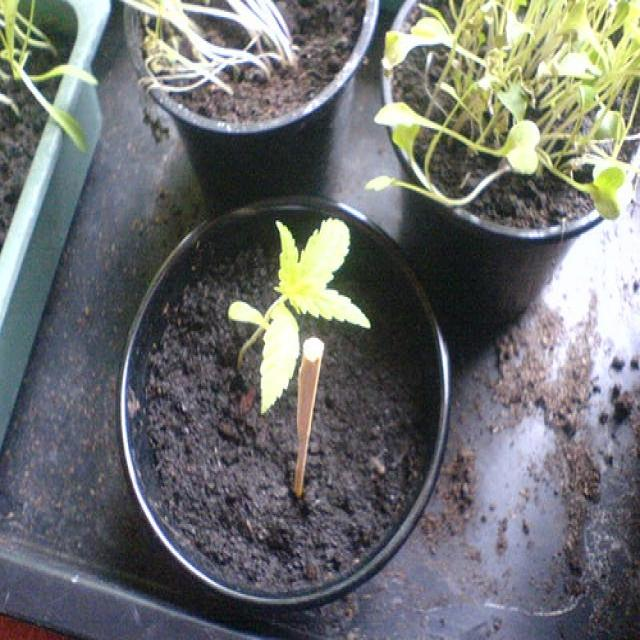pottedplant: (118, 193, 448, 613), (375, 0, 639, 333), (0, 2, 113, 512), (120, 0, 382, 210)
